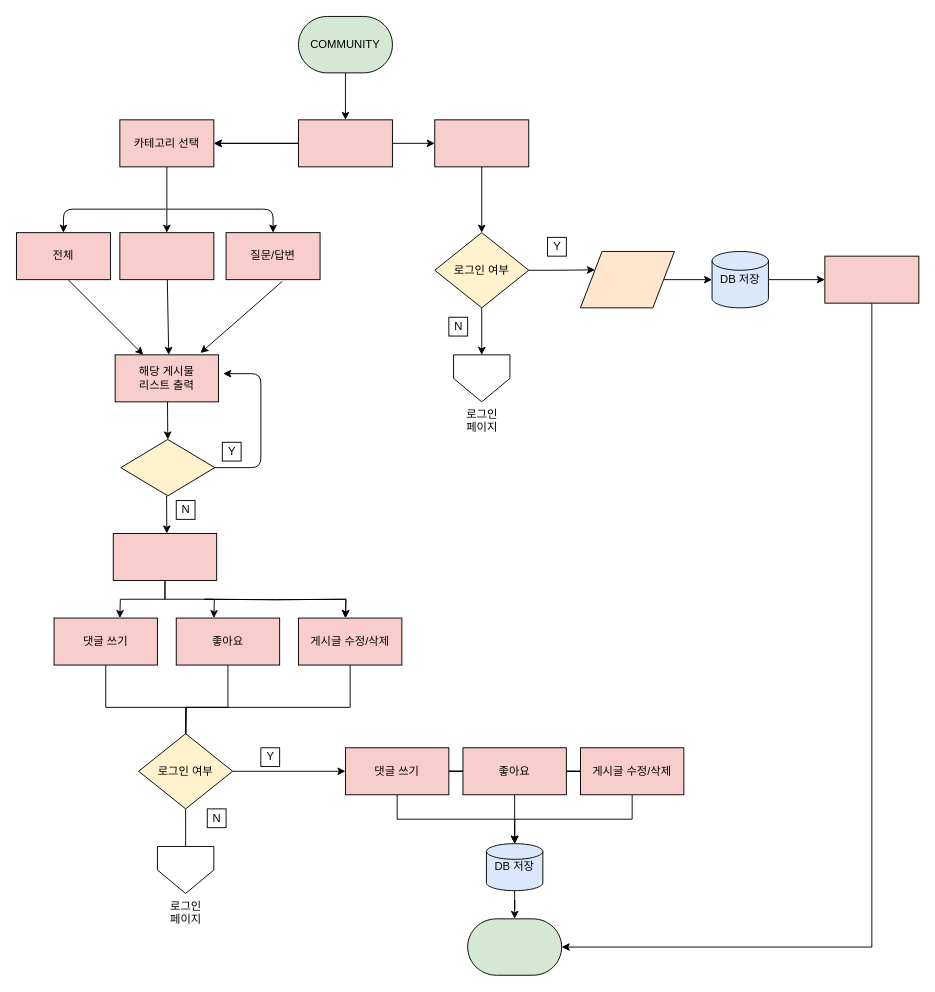
The diagram is 935 pixels wide and 992 high, and some of its shapes have lost their labels. The shapes that lost their labels are listed below. From the top down, each one's centre as x and y in pixels, then its label:
At point (345, 143): "게시글 리스트".
At point (481, 143): "글쓰기 버튼".
At point (166, 256): "소통".
At point (627, 279): "게시글 작성".
At point (871, 279): "게시글 게시".
At point (167, 467): "페이징 클릭".
At point (164, 556): "게시글 보기".
At point (514, 946): "종료".
